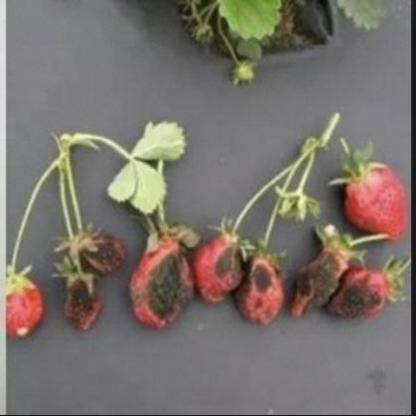Strawberry_Anthracnose_Fruit_Rot: (127, 246, 191, 323), (292, 250, 347, 316), (238, 260, 285, 324), (325, 270, 384, 320), (79, 232, 127, 278), (62, 276, 102, 331), (211, 246, 242, 289)
